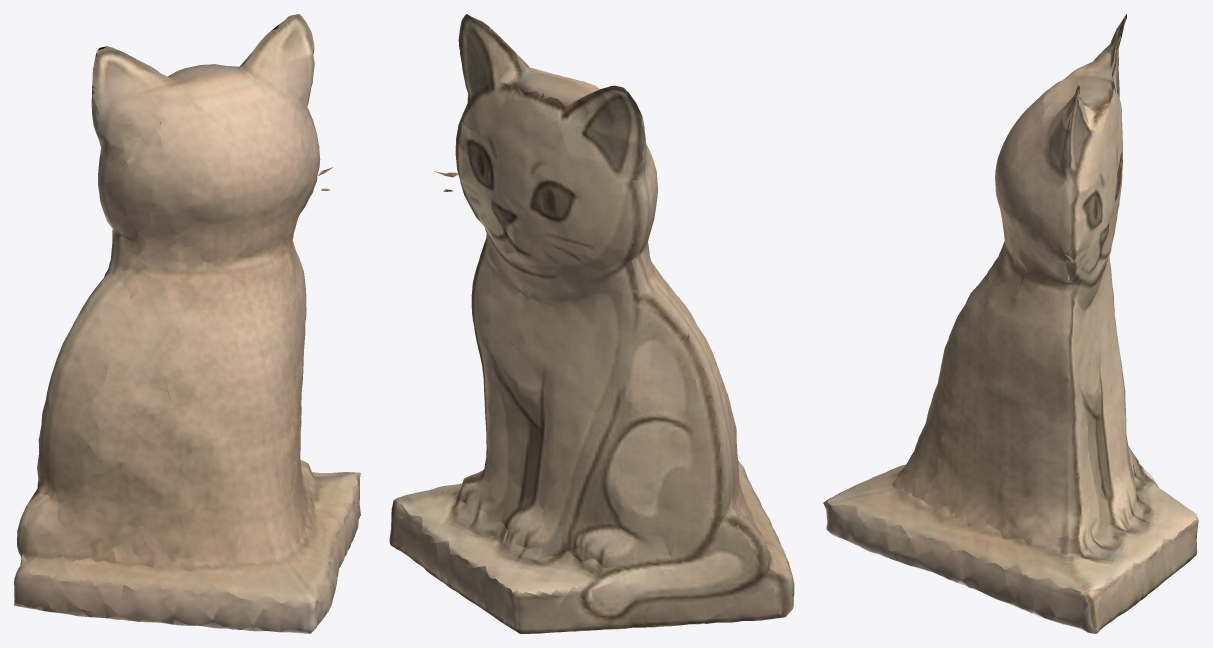
File: 3d-cat-statue.glb
3 renders of one model, left to right at view 1: azimuth 30°, elevation 25°; view 2: azimuth 150°, elevation 25°; view 3: azimuth 270°, elevation 25°, orthographic. The views are drawn at different scales.
Visible parts, largest first — view 1: world; view 2: world; view 3: world.
Boxes of the visible parts, x1,y1,x2,y2 form: world: (14,14,360,633); world: (389,14,794,633); world: (823,14,1198,633).
Size of the model in its own units: 0.6248 by 0.8567 by 0.5601.
1 material, 1 textured.
